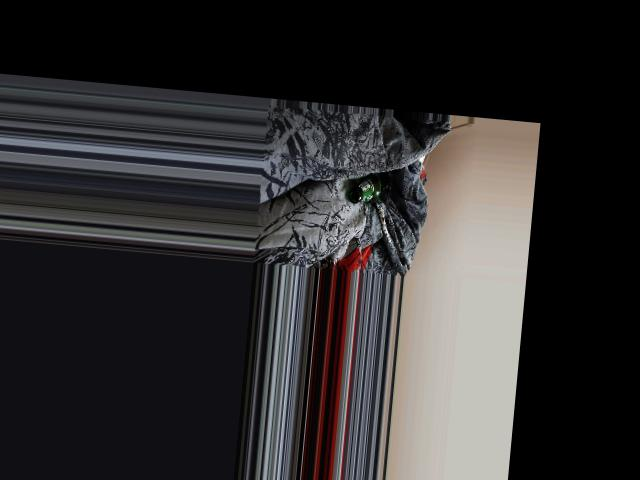beer: (347, 171, 389, 205)
